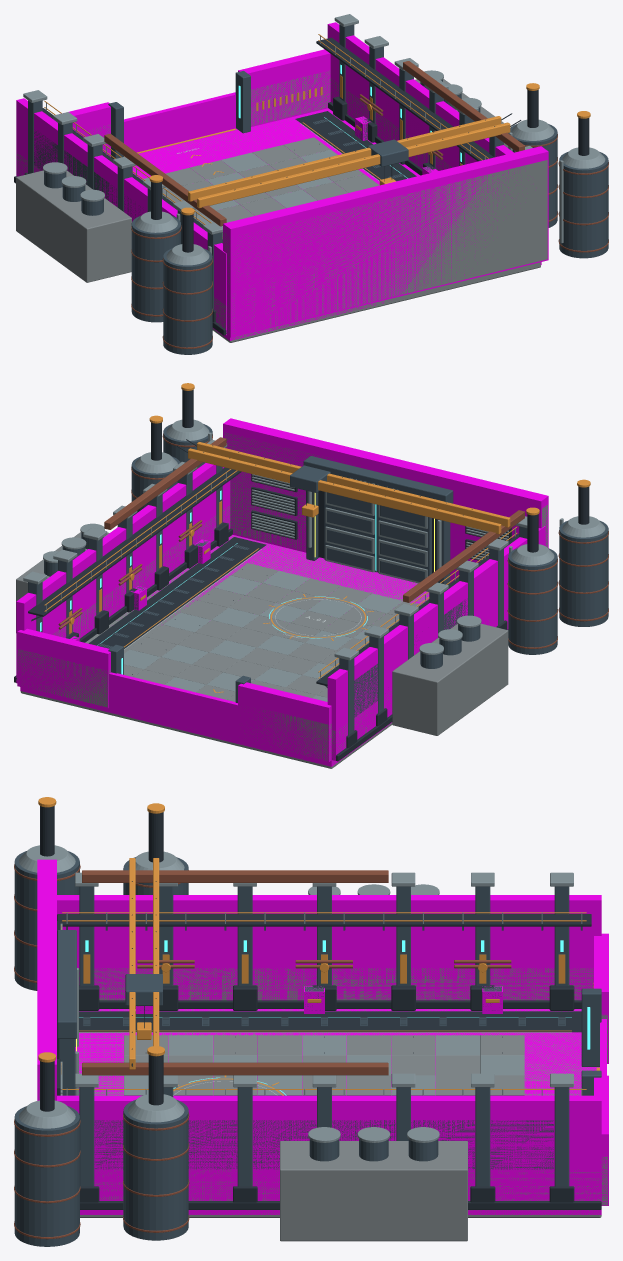
Rendered from BASTION_FoundryArena.fbx.
3 renders of one model, top to bottom at view 1: azimuth 30°, elevation 25°; view 2: azimuth 150°, elevation 25°; view 3: azimuth 270°, elevation 25°, orthographic. The views are drawn at different scales.
Visible parts, largest first — view 1: COL_RearWall_Proxy, ENV_RearGate_Concrete, ENV_Exterior_Steel_Navy, ENV_Exterior_Concrete, ENV_Deck_Concrete, COL_SideWall_-1_Proxy, COL_SideWall_1_Proxy, ENV_Gantry_Hazard_Amber, COL_ArenaFloor_Proxy, COL_FrontBarrier_1_Proxy, ENV_Exterior_Steel_Light, COL_EntryEndStop_Proxy (+18 smaller); view 2: ENV_Deck_Concrete, COL_RearWall_Proxy, ENV_Exterior_Steel_Navy, COL_SideWall_1_Proxy, ENV_RearGate_Steel_Navy, ENV_Exterior_Concrete, COL_SideWall_-1_Proxy, ENV_Deck_Steel_Light, ENV_Gantry_Hazard_Amber, COL_ArenaFloor_Proxy, COL_FrontBarrier_-1_Proxy, COL_FrontBarrier_1_Proxy (+22 smaller); view 3: COL_SideWall_-1_Proxy, COL_SideWall_1_Proxy, ENV_Exterior_Steel_Navy, ENV_Exterior_Concrete, ENV_Deck_Concrete, ENV_EastWall_Steel_Navy, ENV_WestWall_Steel_Dark, ENV_Deck_Steel_Dark, COL_ArenaFloor_Proxy, ENV_WestWall_Steel_Navy, ENV_WestWall_Concrete, ENV_Deck_Steel_Light (+20 smaller).
Part boxes in pixels (left/top/right/bottom): COL_RearWall_Proxy: left=223, top=146, right=548, bottom=337; ENV_RearGate_Concrete: left=223, top=160, right=547, bottom=333; ENV_Exterior_Steel_Navy: left=44, top=80, right=608, bottom=354; ENV_Exterior_Concrete: left=16, top=79, right=508, bottom=282; ENV_Deck_Concrete: left=135, top=111, right=540, bottom=342; COL_SideWall_-1_Proxy: left=16, top=98, right=226, bottom=335; COL_SideWall_1_Proxy: left=327, top=22, right=513, bottom=170; ENV_Gantry_Hazard_Amber: left=188, top=116, right=510, bottom=208; COL_ArenaFloor_Proxy: left=132, top=108, right=541, bottom=340; COL_FrontBarrier_1_Proxy: left=238, top=49, right=330, bottom=126; ENV_Exterior_Steel_Light: left=43, top=70, right=605, bottom=265; COL_EntryEndStop_Proxy: left=124, top=92, right=235, bottom=152; ENV_Deck_Concrete: left=20, top=535, right=429, bottom=768; COL_RearWall_Proxy: left=223, top=418, right=548, bottom=583; ENV_Exterior_Steel_Navy: left=44, top=424, right=608, bottom=668; COL_SideWall_1_Proxy: left=16, top=463, right=230, bottom=683; ENV_RearGate_Steel_Navy: left=303, top=456, right=453, bottom=584; ENV_Exterior_Concrete: left=16, top=532, right=508, bottom=735; COL_SideWall_-1_Proxy: left=327, top=526, right=545, bottom=760; ENV_Deck_Steel_Light: left=124, top=570, right=402, bottom=701; ENV_Gantry_Hazard_Amber: left=188, top=442, right=510, bottom=534; COL_ArenaFloor_Proxy: left=20, top=534, right=429, bottom=766; COL_FrontBarrier_-1_Proxy: left=238, top=682, right=331, bottom=761; COL_FrontBarrier_1_Proxy: left=17, top=628, right=110, bottom=708; COL_SideWall_-1_Proxy: left=57, top=895, right=601, bottom=1000; COL_SideWall_1_Proxy: left=57, top=1095, right=601, bottom=1201; ENV_Exterior_Steel_Navy: left=14, top=851, right=438, bottom=1246; ENV_Exterior_Concrete: left=280, top=1141, right=467, bottom=1241; ENV_Deck_Concrete: left=77, top=1009, right=601, bottom=1217; ENV_EastWall_Steel_Navy: left=79, top=1087, right=569, bottom=1186; ENV_WestWall_Steel_Dark: left=57, top=881, right=591, bottom=1010; ENV_Deck_Steel_Dark: left=79, top=1011, right=581, bottom=1053; COL_ArenaFloor_Proxy: left=75, top=1009, right=601, bottom=1214; ENV_WestWall_Steel_Navy: left=79, top=886, right=582, bottom=1010; ENV_WestWall_Concrete: left=79, top=968, right=607, bottom=1062; ENV_Deck_Steel_Light: left=124, top=1035, right=524, bottom=1095.
Size of the model in its own units: 67.72 by 21.17 by 60.11.
